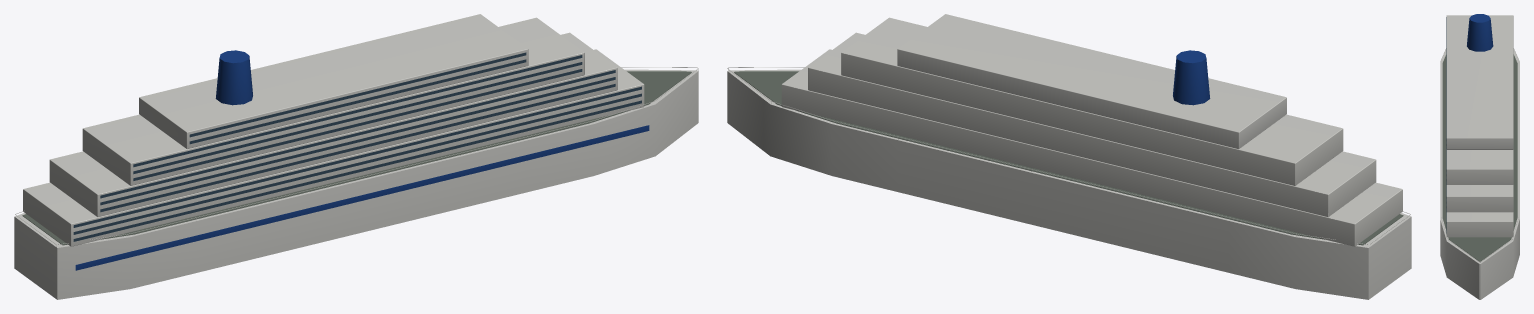
The model's file is CruiseShipMIA.fbx.
3 views of the same model, side by side, from view 1: azimuth 30°, elevation 25°; view 2: azimuth 150°, elevation 25°; view 3: azimuth 270°, elevation 25° (orthographic). The views are drawn at different scales.
Visible parts, largest first — view 1: CruiseShipMIA; view 2: CruiseShipMIA; view 3: CruiseShipMIA.
Boxes of the visible parts, x1=… form: CruiseShipMIA: x1=14, y1=14, x2=698, y2=299; CruiseShipMIA: x1=727, y1=14, x2=1411, y2=299; CruiseShipMIA: x1=1440, y1=14, x2=1519, y2=299.
Size of the model in its own units: 120 by 31 by 18.02.
